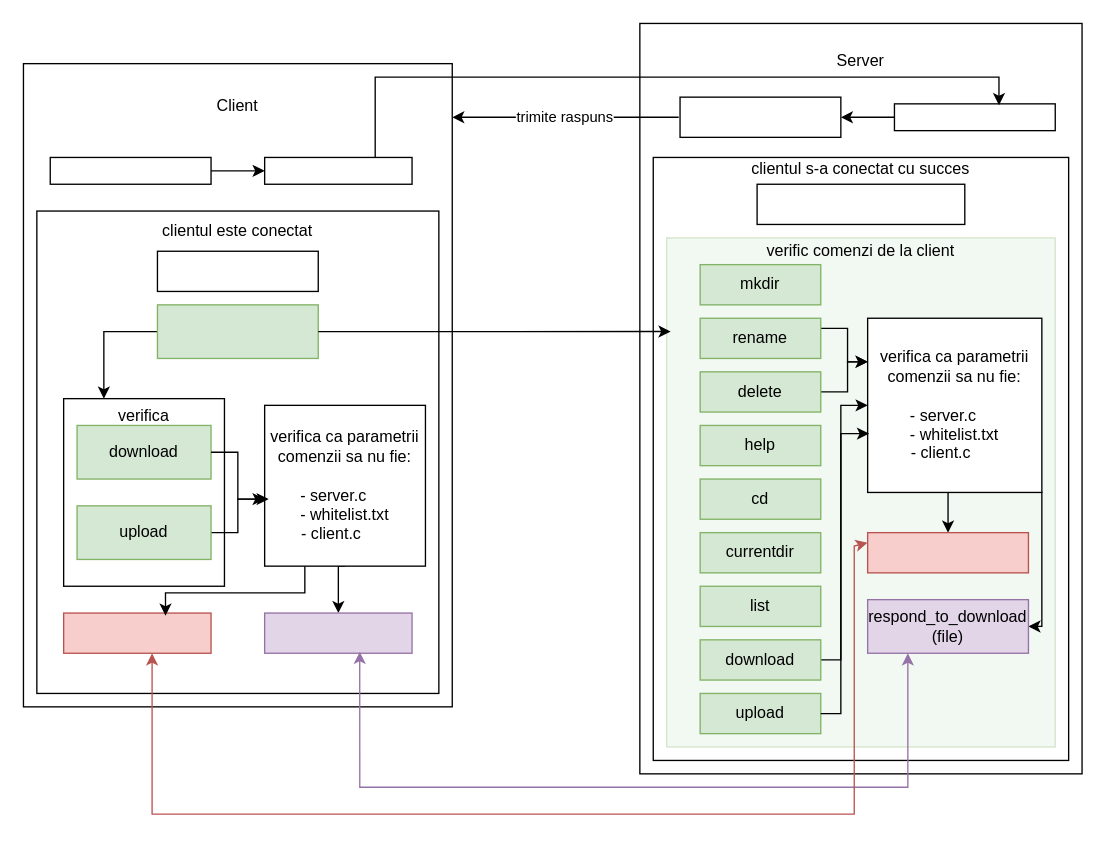
The diagram is 1106 pixels wide and 850 high, and some of its shapes have lost their labels. The centre of each missing label's shape, as x and y in pixels:
acceseaza folderul username: the point at 237,270
account_verify (username ,parola): the point at 760,116
crearea unui folder destinat utilizatorului conectat: the point at 860,203
decrypt: the point at 974,117
download(file): the point at 337,632
encrypt: the point at 337,170
primeste comenzi de la tastatura: the point at 237,331
recieve_file(name): the point at 947,552
upload(file,location): the point at 136,632
username parola: the point at 130,170
